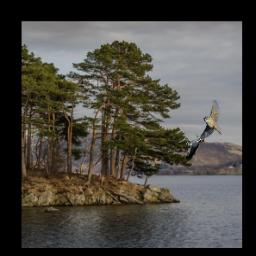Sparrow: (199, 99, 222, 138)
Woodpecker: (185, 134, 204, 159)
